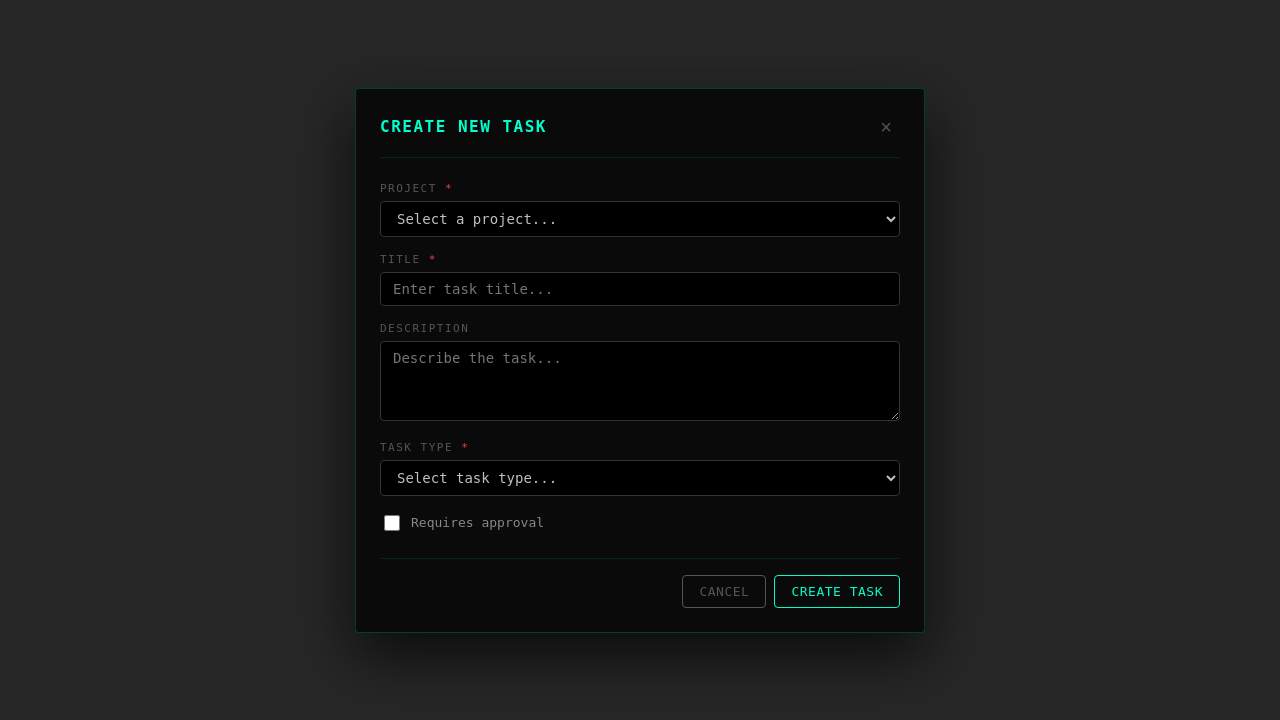
Test: CreateTaskForm › Form Validation › shows error when submitting without a title
Note: Select project and task type
Select "Mission Control" in the dropdown with test id "create-task-project" at (640, 218), box [380,200,900,236]
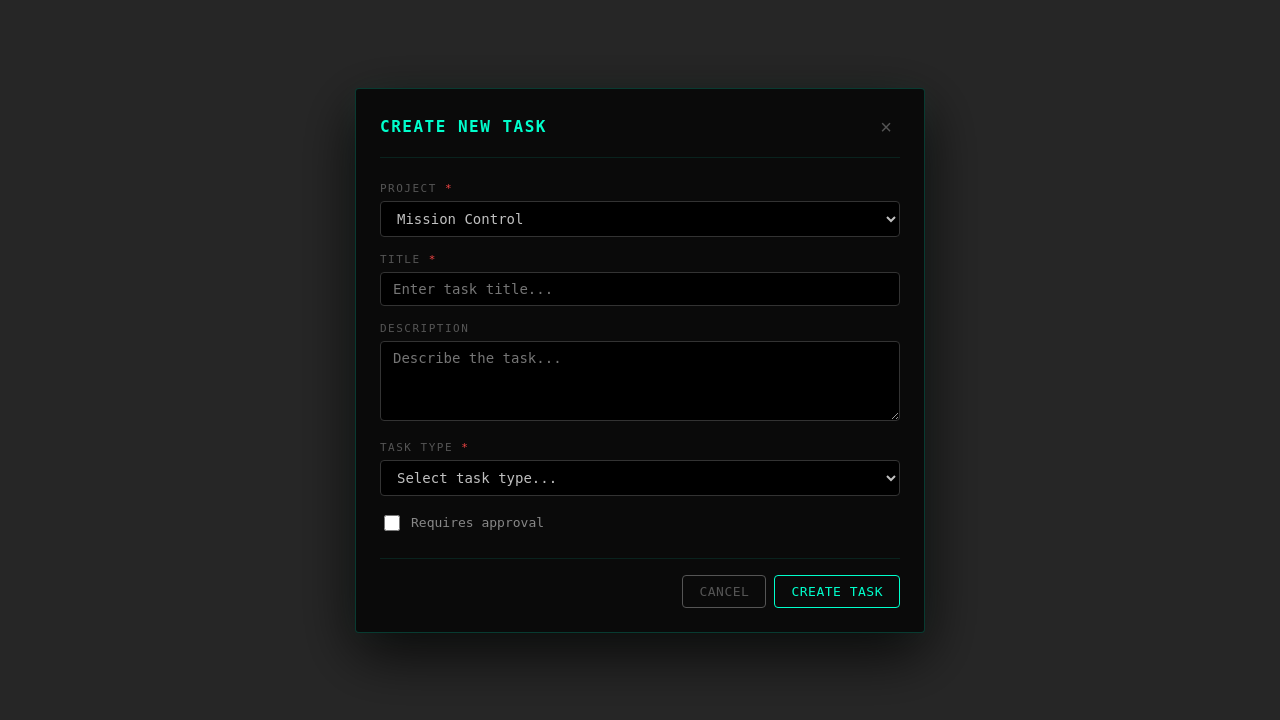
Select "Implementation" in the dropdown with test id "create-task-type" at (640, 478), box [380,460,900,496]
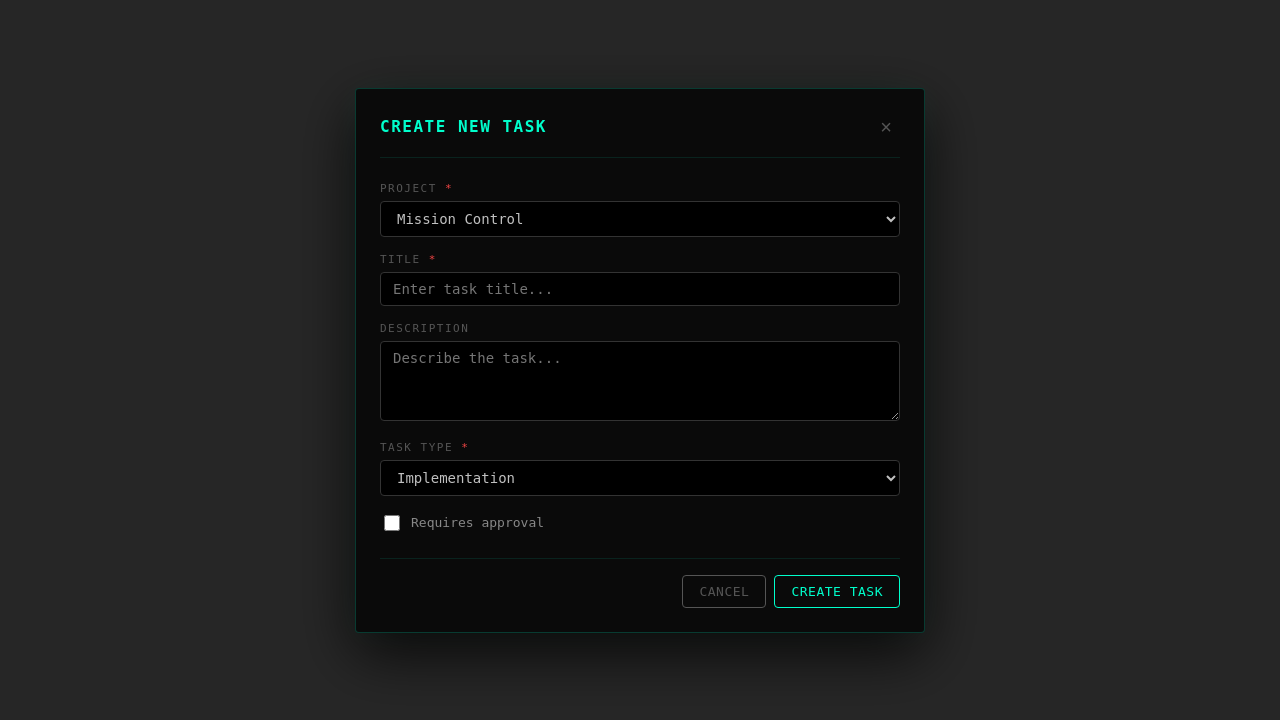
Note: Submit without title
Click the button with test id "create-task-submit" at (837, 591), box [774,574,900,608]
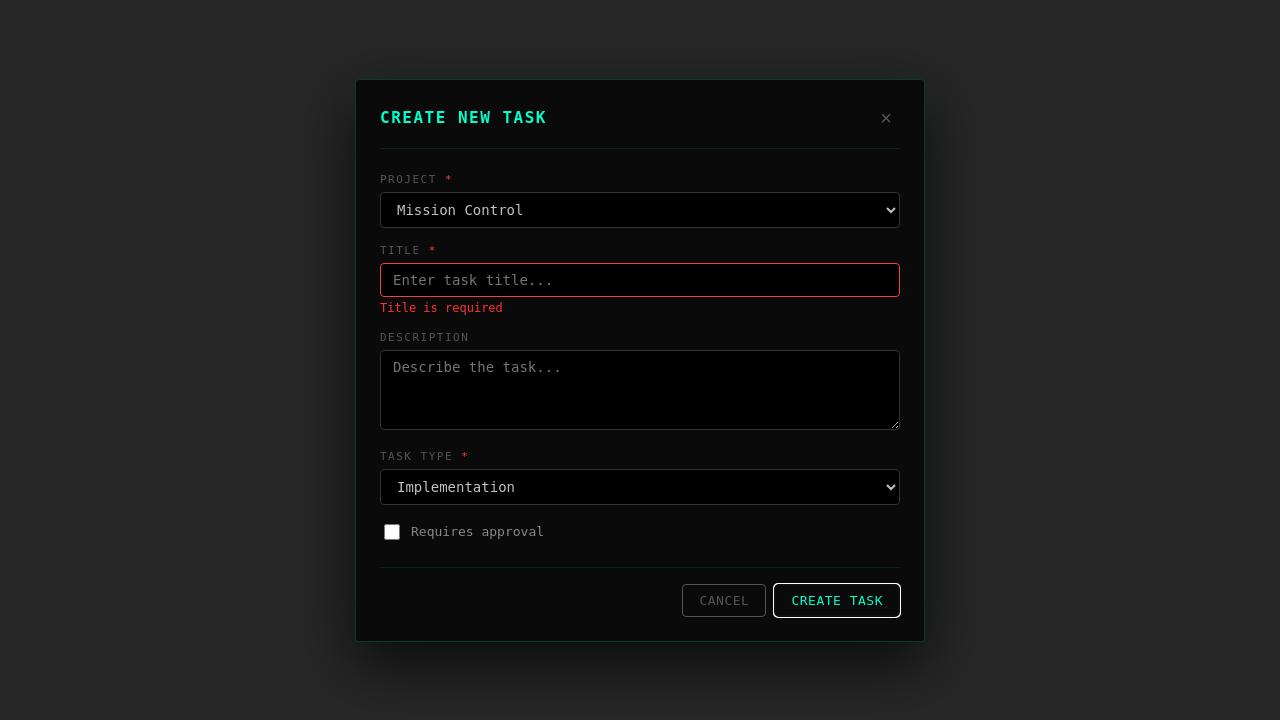
Check: the text with test id "error-title" reads "Title is required", box [380,300,503,314]
